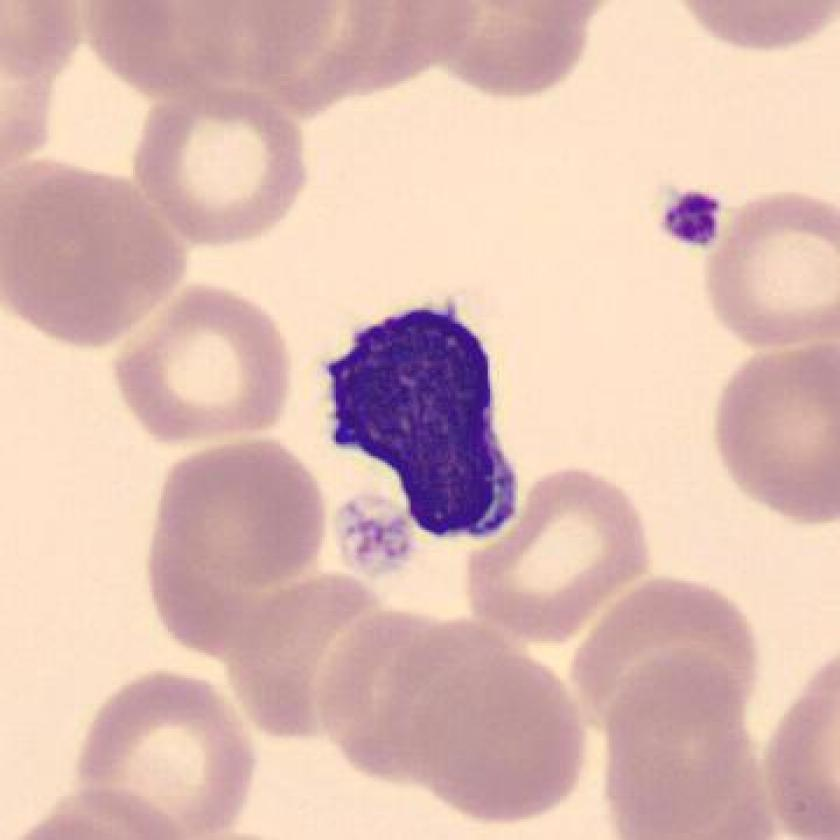lymphocyte: (305, 283, 536, 598)
